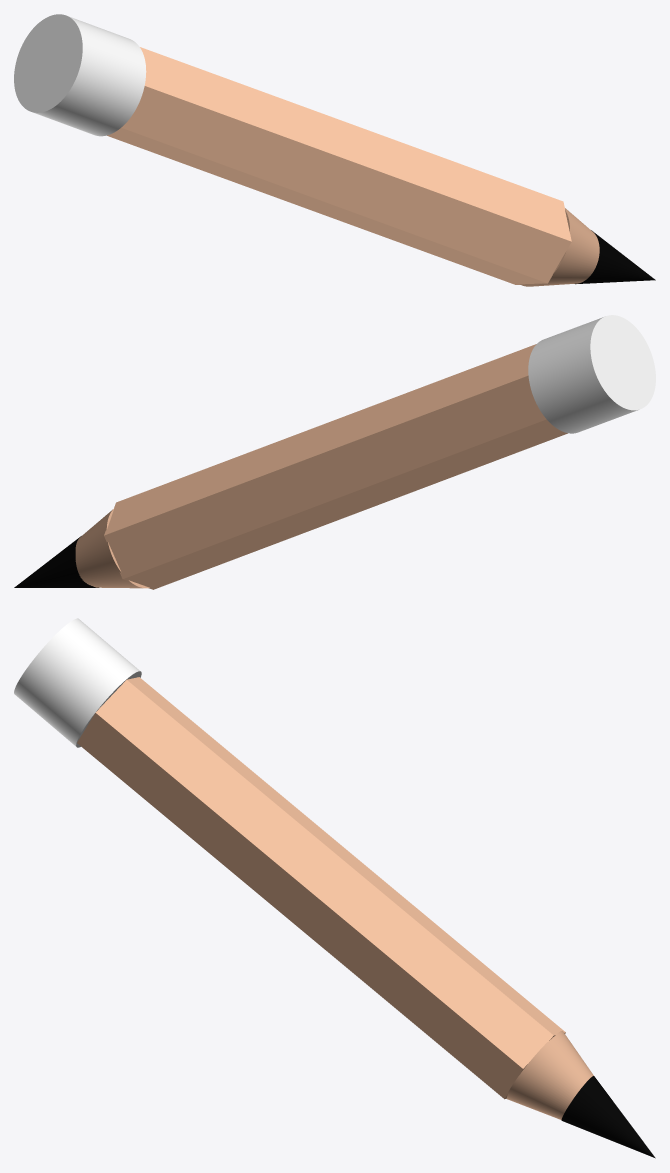
The model's file is Pencil.glb.
The picture shows the model from 3 angles, top to bottom: view 1: azimuth 30°, elevation 25°; view 2: azimuth 150°, elevation 25°; view 3: azimuth 330°, elevation 25°; orthographic projection. The views are drawn at different scales.
Visible parts, largest first — view 1: node_id30, node_id23, node_id11, node_id17; view 2: node_id30, node_id23, node_id11, node_id17; view 3: node_id30, node_id23, node_id11, node_id17.
Boxes of the visible parts, x1=… form: node_id30: x1=107, y1=47, x2=571, y2=284; node_id23: x1=14, y1=14, x2=146, y2=136; node_id11: x1=520, y1=208, x2=599, y2=286; node_id17: x1=575, y1=230, x2=655, y2=284; node_id30: x1=104, y1=344, x2=567, y2=589; node_id23: x1=528, y1=315, x2=655, y2=433; node_id11: x1=75, y1=508, x2=149, y2=588; node_id17: x1=14, y1=536, x2=98, y2=587; node_id30: x1=77, y1=677, x2=565, y2=1099; node_id23: x1=14, y1=618, x2=141, y2=747; node_id11: x1=506, y1=1031, x2=593, y2=1119; node_id17: x1=561, y1=1076, x2=655, y2=1158.
Size of the model in its own units: 0.4557 by 0.2823 by 0.0683.
4 materials, 4 textured.
